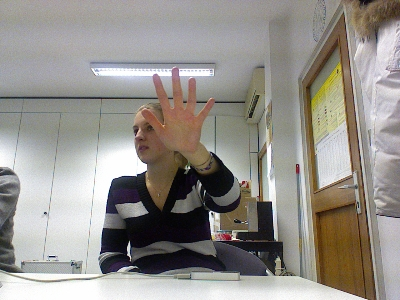布: (141, 66, 215, 153)
